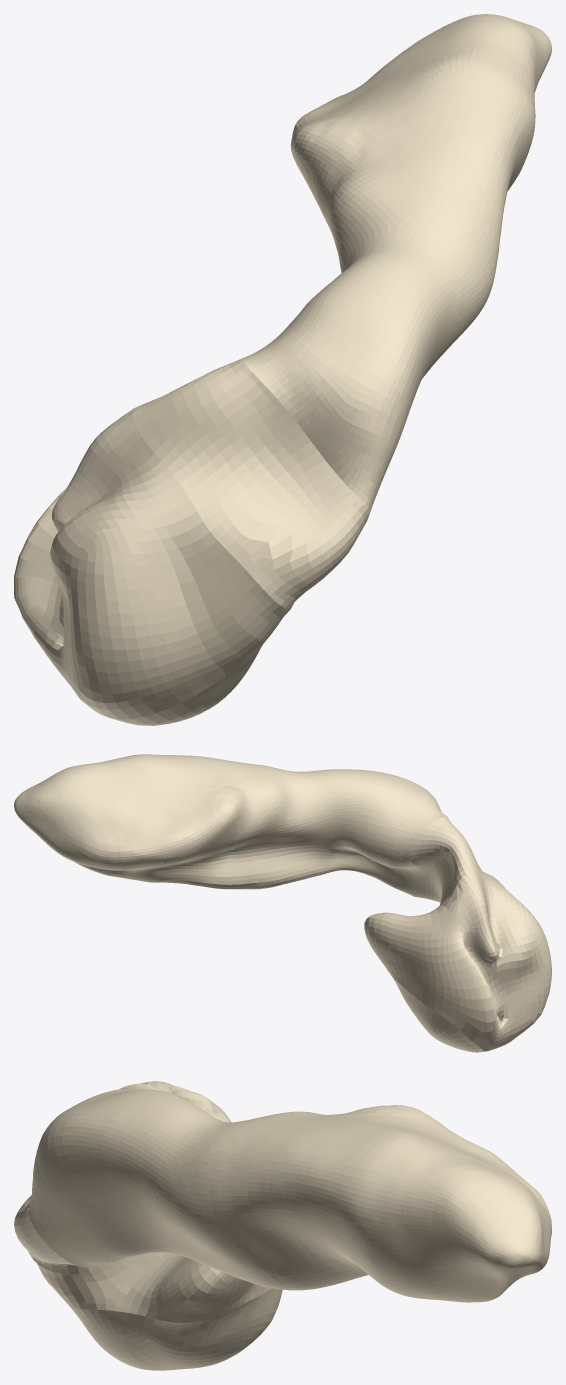
File: pancreas.glb
3 renders of one model, top to bottom at view 1: azimuth 30°, elevation 25°; view 2: azimuth 150°, elevation 25°; view 3: azimuth 270°, elevation 25°, orthographic. The views are drawn at different scales.
Size of the model in its own units: 0.1114 by 0.072 by 0.0836.
